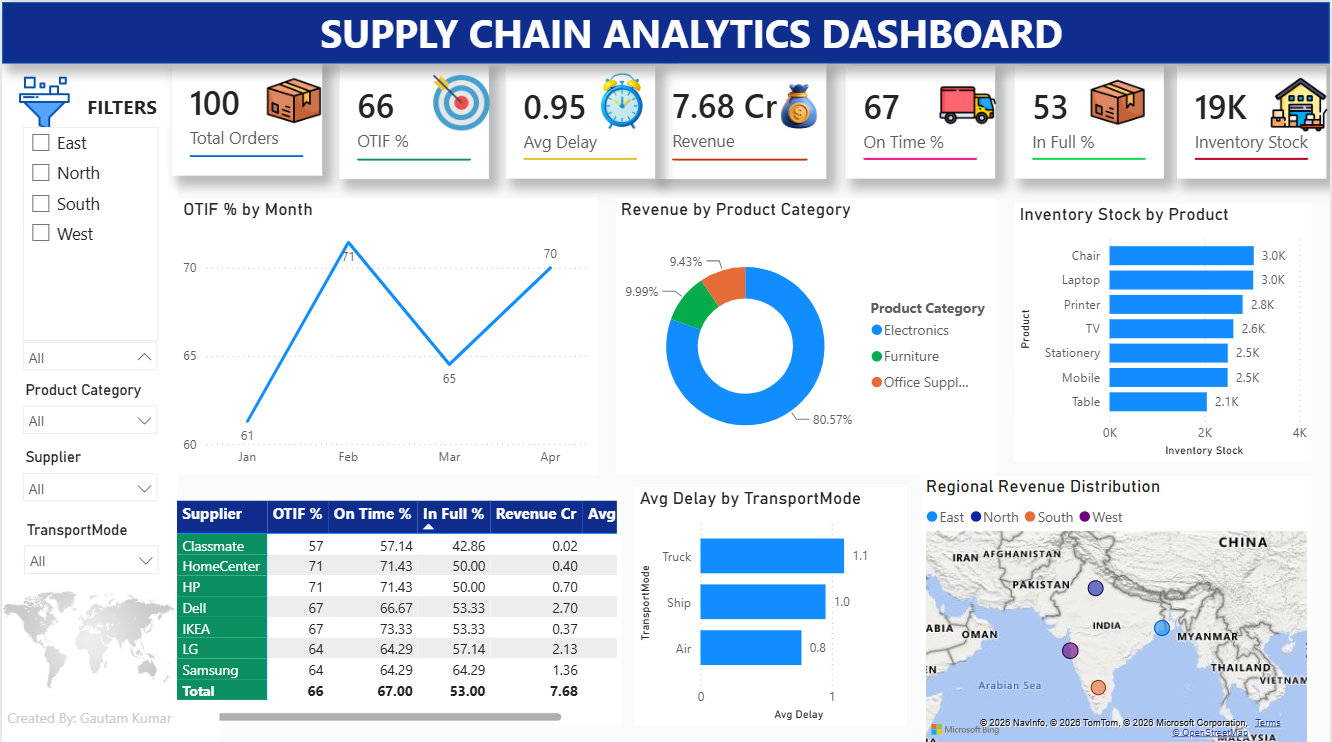

The dashboard page shown, as its layout file describes it:
{"tool":"powerbi","page":{"name":"Page 1","canvas":[1280,720],"ordinal":0},"visuals":[{"type":"shape","box":[0,59.5,170.2,638.1],"z":0},{"type":"cardVisual","fields":{"Data":["DateTable.Total Orders"]},"box":[163.9,57.8,144.6,109.6],"z":1000},{"type":"cardVisual","fields":{"Data":["DateTable.OTIF %"]},"box":[325.7,60,144.3,110],"z":2000},{"type":"cardVisual","fields":{"Data":["DateTable.Revenue (Cr)"]},"box":[628.6,60,165.7,110],"z":3000},{"type":"cardVisual","fields":{"Data":["DateTable.Avg Delay"]},"box":[485.7,61.4,144.3,108.6],"z":4000},{"type":"cardVisual","fields":{"Data":["DateTable.On Time %"]},"box":[812.9,61.4,144.3,108.6],"z":5000},{"type":"cardVisual","fields":{"Data":["DateTable.In Full %"]},"box":[975.7,61.4,144.3,108.6],"z":6000},{"type":"cardVisual","fields":{"Data":["DateTable.Inventory Stock"]},"box":[1132.9,61.4,144.3,108.6],"z":7000},{"type":"lineChart","fields":{"Category":["DateTable.Month"],"Y":["DateTable.OTIF %"]},"box":[170,188.6,402.9,267.1],"z":8000},{"type":"donutChart","title":"Revenue by Product Category","fields":{"Category":["DIM_MATERIAL.Product Category"],"Y":["DateTable.Revenue Cr"]},"box":[591.6,189.2,366.3,266.3],"z":9000},{"type":"barChart","fields":{"Category":["DIM_MATERIAL.Product"],"Y":["DateTable.Inventory Stock"]},"box":[975.9,194,286.7,249.4],"z":10000},{"type":"map","title":"Regional Revenue Distribution","fields":{"Size":["DateTable.Revenue"],"Category":["SCM.Region Location"],"Series":["SCM.Region"]},"box":[885.5,456.6,377.1,263.9],"z":11000},{"type":"pivotTable","fields":{"Rows":["DIM_MATERIAL.Supplier"],"Values":["DateTable.OTIF %","DateTable.On Time %","DateTable.In Full %","DateTable.Revenue Cr","DateTable.Avg Delay"]},"box":[163.9,475.9,433.7,222.9],"z":12000},{"type":"slicer","fields":{"Values":["DateTable.Year"]},"box":[10,158.6,150,70],"z":13000},{"type":"slicer","fields":{"Values":["DateTable.Month"]},"box":[11.4,228.6,150,70],"z":14000},{"type":"slicer","fields":{"Values":["SCM.Region"]},"box":[10,298.6,150,70],"z":15000},{"type":"slicer","fields":{"Values":["DIM_MATERIAL.Product Category"]},"box":[10,360,150,70],"z":16000},{"type":"slicer","fields":{"Values":["DIM_MATERIAL.Supplier"]},"box":[10,425.7,150,70],"z":17000},{"type":"slicer","fields":{"Values":["SCM.TransportMode"]},"box":[11.4,495.7,150,70],"z":18000},{"type":"shape","box":[0,0,1279.8,59.5],"z":19000},{"type":"textbox","box":[280.7,0,767.5,60.2],"z":20000},{"type":"clusteredBarChart","fields":{"Category":["SCM.TransportMode"],"Y":["DateTable.Avg Delay"]},"box":[609.6,467.5,262.7,230.1],"z":21000},{"type":"image","box":[254.3,64.3,54.3,62.9],"z":22000},{"type":"image","box":[741,69.9,54.2,61.4],"z":23000},{"type":"image","box":[1222.9,68.6,54.3,61.4],"z":24000},{"type":"image","box":[903.6,68.7,54.2,61.4],"z":25000},{"type":"image","box":[1048.6,65.7,54.3,61.4],"z":26000},{"type":"image","box":[544.3,60,105.7,70],"z":27000},{"type":"image","box":[415.7,66.3,54.2,61.4],"z":28000},{"type":"image","box":[11.4,65.7,60,70],"z":29000},{"type":"textbox","box":[77.1,82.9,84.3,35.7],"z":30000},{"type":"image","box":[0,531.4,170,167.1],"z":31000},{"type":"textbox","box":[0,675.9,209.6,44.6],"z":32000}]}

Visuals, with their boxes in screenshot pixels (x1, y1, x2, y2), scaled from the page's 1280x720 canvas onto the 1332x742 screenshot:
shape: <bbox>0, 61, 177, 719</bbox>
cardVisual - DateTable.Total Orders: <bbox>171, 60, 321, 173</bbox>
cardVisual - DateTable.OTIF %: <bbox>339, 62, 489, 175</bbox>
cardVisual - DateTable.Revenue (Cr): <bbox>654, 62, 827, 175</bbox>
cardVisual - DateTable.Avg Delay: <bbox>505, 63, 656, 175</bbox>
cardVisual - DateTable.On Time %: <bbox>846, 63, 996, 175</bbox>
cardVisual - DateTable.In Full %: <bbox>1015, 63, 1166, 175</bbox>
cardVisual - DateTable.Inventory Stock: <bbox>1179, 63, 1329, 175</bbox>
lineChart - DateTable.Month x DateTable.OTIF %: <bbox>177, 194, 596, 470</bbox>
"Revenue by Product Category" donutChart: <bbox>616, 195, 997, 469</bbox>
barChart - DIM_MATERIAL.Product x DateTable.Inventory Stock: <bbox>1016, 200, 1314, 457</bbox>
"Regional Revenue Distribution" map: <bbox>921, 471, 1314, 741</bbox>
pivotTable - DIM_MATERIAL.Supplier x DateTable.OTIF %: <bbox>171, 490, 622, 720</bbox>
slicer - DateTable.Year: <bbox>10, 163, 166, 236</bbox>
slicer - DateTable.Month: <bbox>12, 236, 168, 308</bbox>
slicer - SCM.Region: <bbox>10, 308, 166, 380</bbox>
slicer - DIM_MATERIAL.Product Category: <bbox>10, 371, 166, 443</bbox>
slicer - DIM_MATERIAL.Supplier: <bbox>10, 439, 166, 511</bbox>
slicer - SCM.TransportMode: <bbox>12, 511, 168, 583</bbox>
shape: <bbox>0, 0, 1331, 61</bbox>
textbox: <bbox>292, 0, 1091, 62</bbox>
clusteredBarChart - SCM.TransportMode x DateTable.Avg Delay: <bbox>634, 482, 908, 719</bbox>
image: <bbox>265, 66, 321, 131</bbox>
image: <bbox>771, 72, 828, 135</bbox>
image: <bbox>1273, 71, 1329, 134</bbox>
image: <bbox>940, 71, 997, 134</bbox>
image: <bbox>1091, 68, 1148, 131</bbox>
image: <bbox>566, 62, 676, 134</bbox>
image: <bbox>433, 68, 489, 132</bbox>
image: <bbox>12, 68, 74, 140</bbox>
textbox: <bbox>80, 85, 168, 122</bbox>
image: <bbox>0, 548, 177, 720</bbox>
textbox: <bbox>0, 697, 218, 741</bbox>
